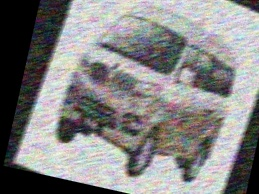van: (37, 0, 259, 194)
